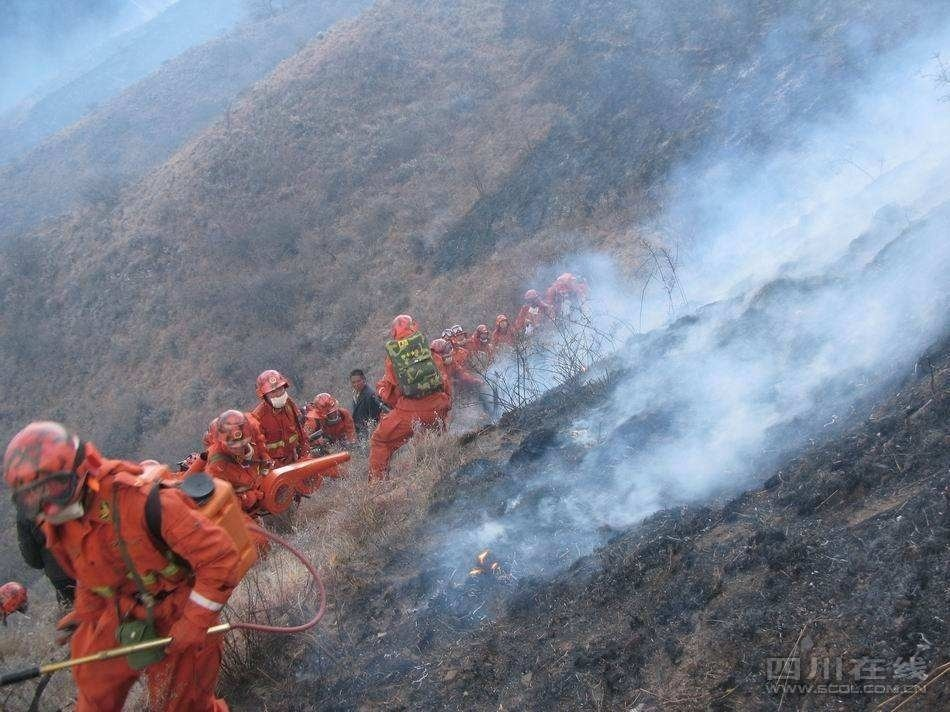fire: (462, 545, 506, 583)
